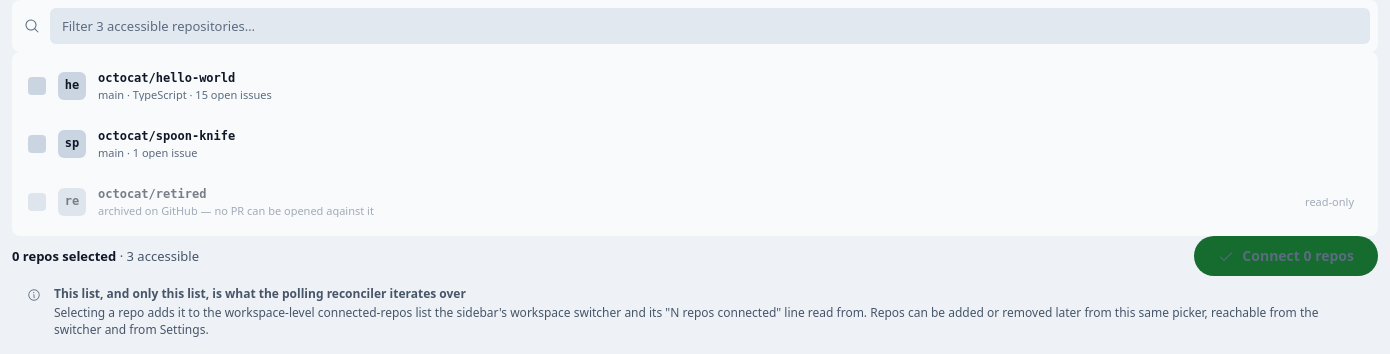
it: RepoPicker › says when a filter matches nothing
Type "nothing-like-this" into the search field named "Filter repositories" at (710, 26), box [50,8,1370,44]
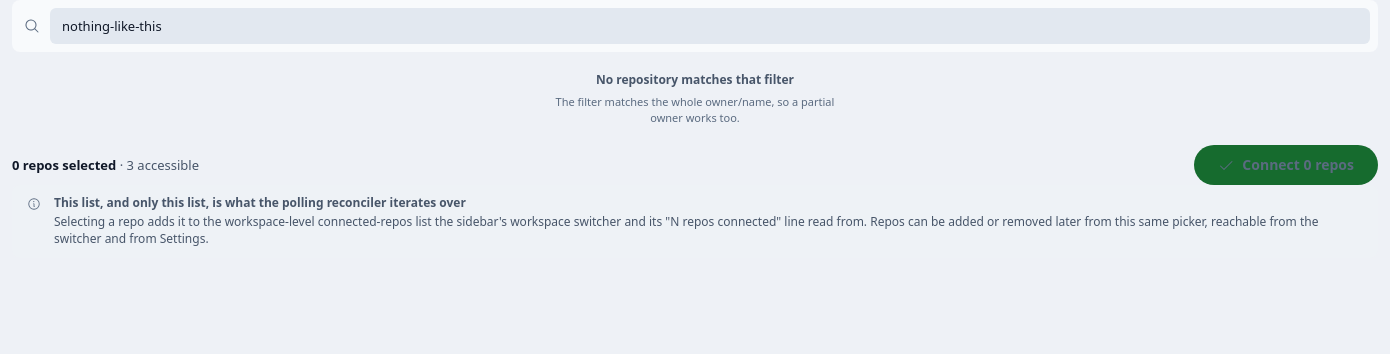
Expected: the text "No repository matches that filter" is shown, [596,72,794,88]
